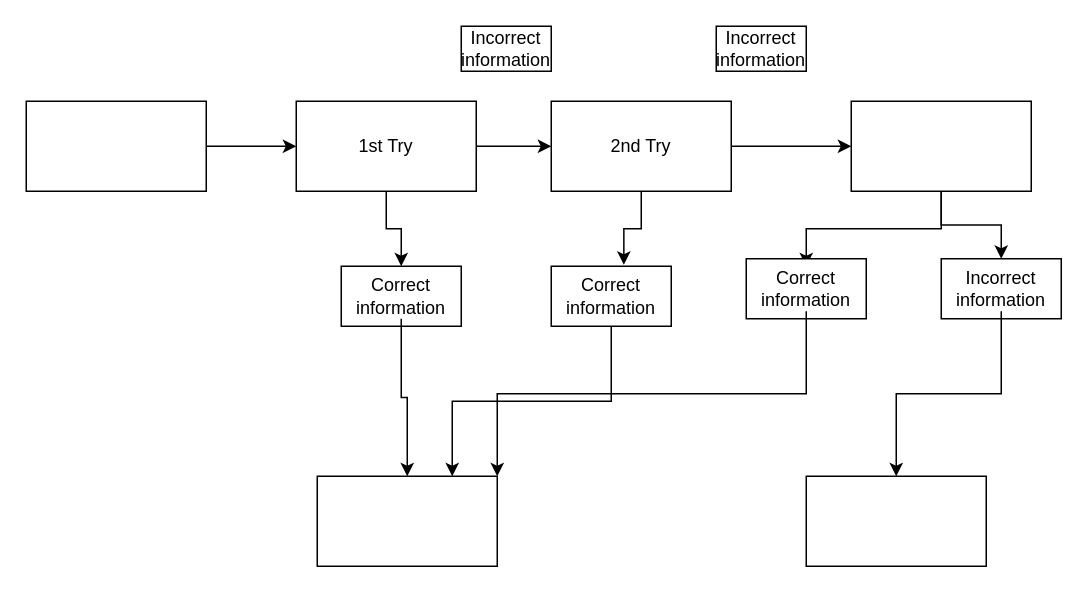
Image size: 1088x593. Some labels were removed from this diagram. Here are the shapes that lost their labels. From the top down, the box of each, then its label:
(25, 100, 206, 191): Start
(850, 100, 1031, 191): 3rd Try
(316, 475, 497, 566): Successful log in
(805, 475, 986, 566): Unsuccessful log in
